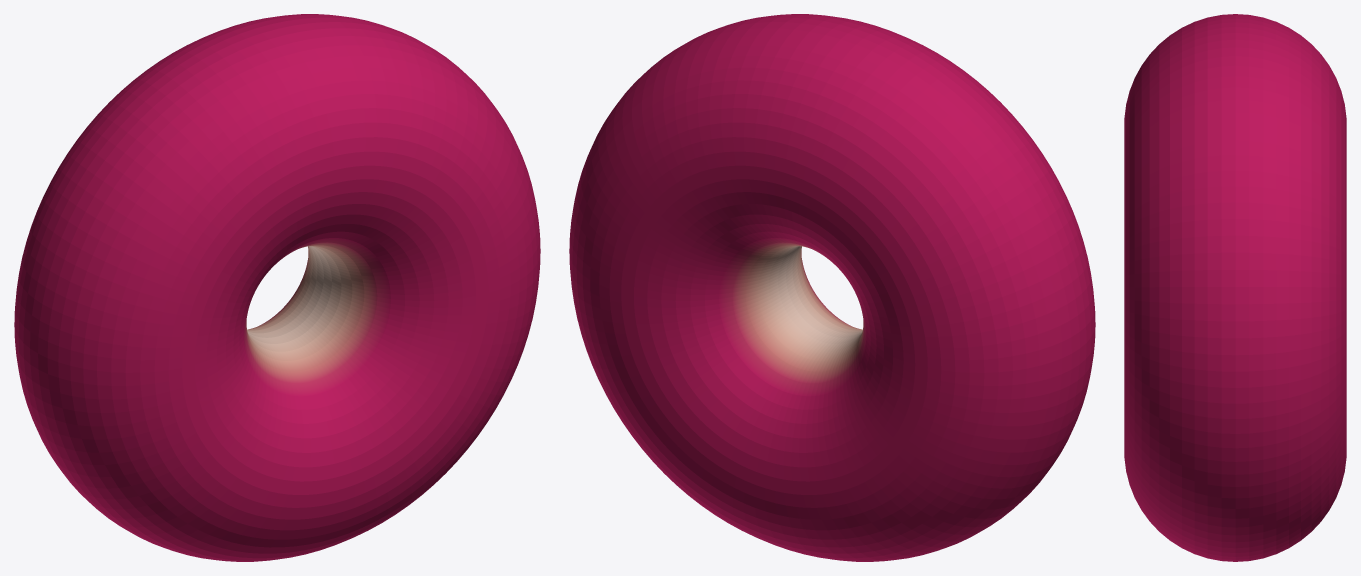
The picture shows the model from 3 angles, left to right: view 1: azimuth 30°, elevation 25°; view 2: azimuth 150°, elevation 25°; view 3: azimuth 270°, elevation 25°; orthographic projection. The views are drawn at different scales.
Parts seen in each view (by area): view 1: world; view 2: world; view 3: world.
Part boxes in pixels (left/top/right/bottom): world: left=14, top=14, right=540, bottom=561; world: left=569, top=14, right=1095, bottom=561; world: left=1124, top=14, right=1346, bottom=561.
Size of the model in its own units: 21.33 by 21.33 by 8.65.
